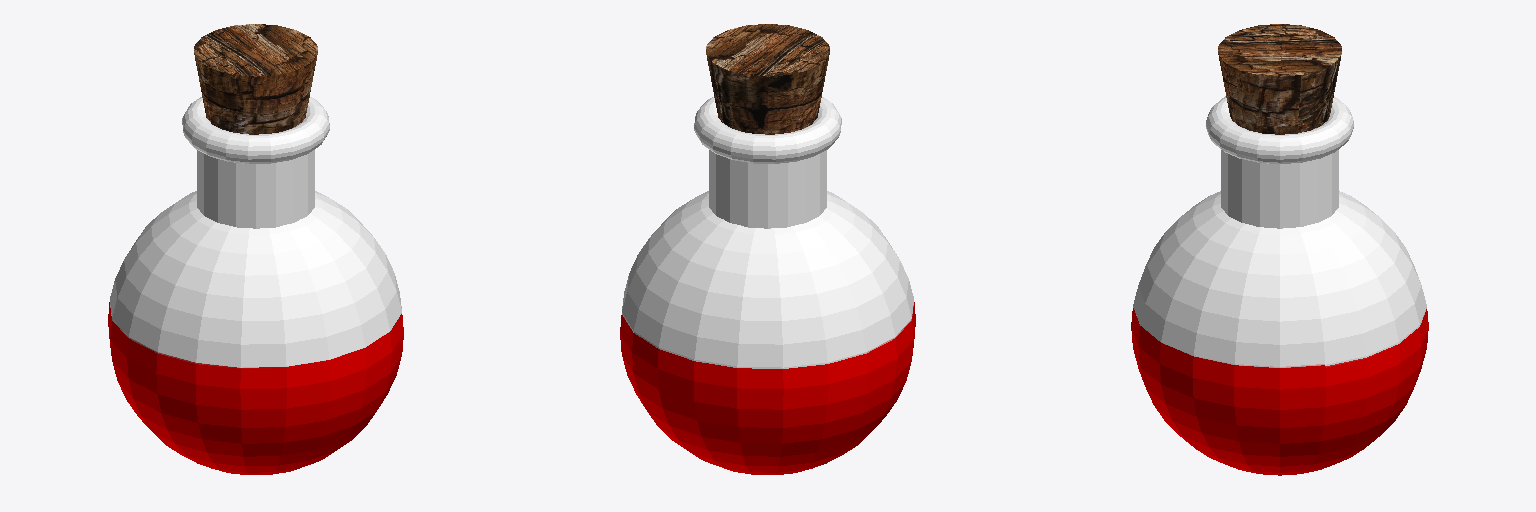
The picture shows the model from 3 angles: view 1: azimuth 30°, elevation 25°; view 2: azimuth 150°, elevation 25°; view 3: azimuth 270°, elevation 25°; orthographic projection.
Visible parts, largest first — view 1: item; view 2: item; view 3: item.
Boxes of the visible parts, <box> form: item: <box>108,24,403,474</box>; item: <box>620,24,915,474</box>; item: <box>1131,24,1428,475</box>.
Bounding box in the file's own units: 2 × 3.05 × 2.
2 materials, 2 textured.